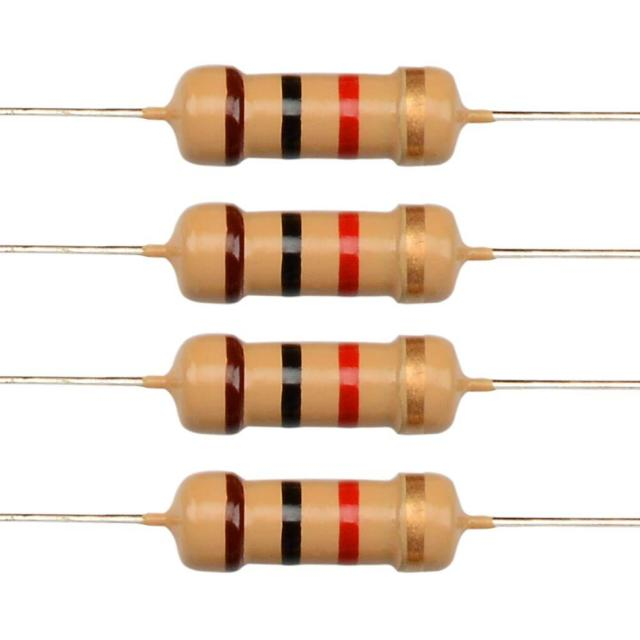Resistor: (143, 203, 494, 302), (143, 335, 493, 434), (143, 66, 492, 165), (157, 473, 492, 571)
black: (278, 477, 300, 570), (279, 211, 302, 296), (281, 74, 299, 153), (285, 338, 300, 426)
brown: (222, 62, 250, 166), (225, 203, 248, 300), (226, 334, 242, 436), (228, 468, 242, 568)
gold: (408, 336, 432, 433), (407, 67, 426, 166), (406, 472, 424, 572), (409, 206, 428, 300)
red: (336, 477, 362, 565), (338, 69, 360, 160), (342, 335, 359, 429), (341, 210, 360, 294)
